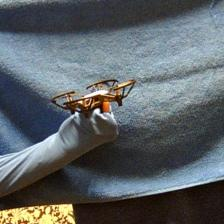drone: (51, 76, 137, 118)
